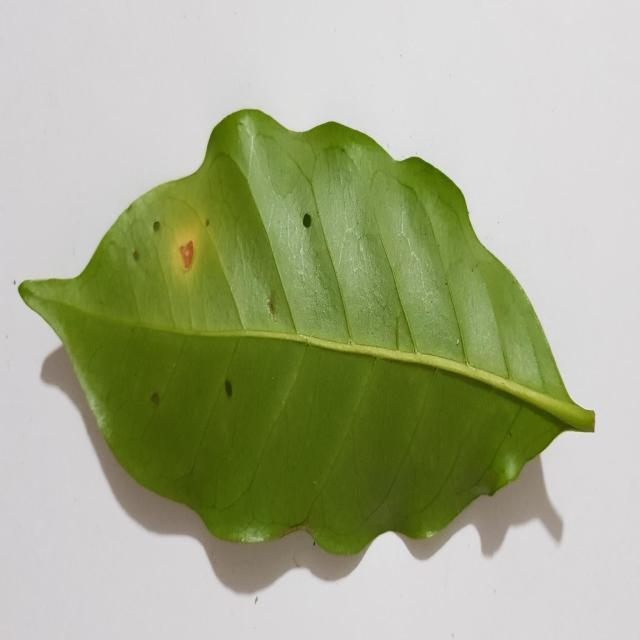Enfermedad-Mancha-de-hierro: (16, 109, 597, 561)
